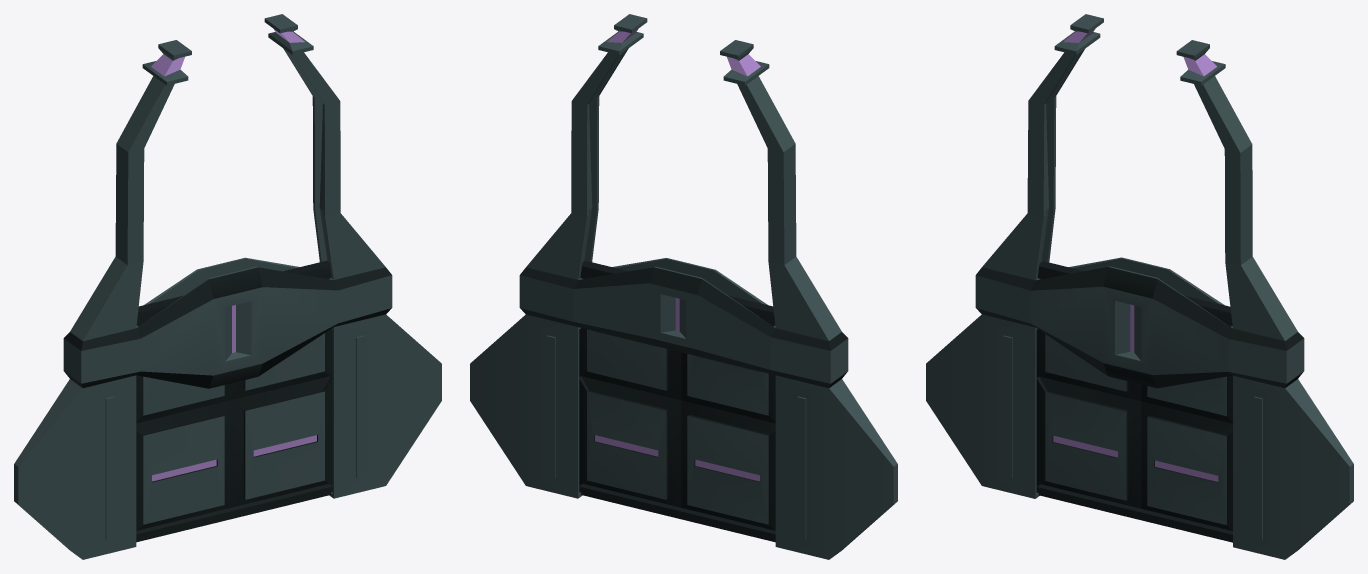
The model's file is DoorVault.fbx.
3 views of the same model, side by side, from view 1: azimuth 30°, elevation 25°; view 2: azimuth 150°, elevation 25°; view 3: azimuth 330°, elevation 25° (orthographic).
Visible parts, largest first — view 1: DoorVault, Door; view 2: DoorVault, Door; view 3: DoorVault, Door.
Boxes of the visible parts, x1,y1,x2,y2 form: DoorVault: [14, 14, 441, 559]; Door: [136, 260, 332, 542]; DoorVault: [470, 14, 897, 559]; Door: [579, 260, 775, 542]; DoorVault: [926, 14, 1353, 559]; Door: [1036, 261, 1232, 542].
Bounding box in the file's own units: 18.87 × 20.57 × 1.87.
